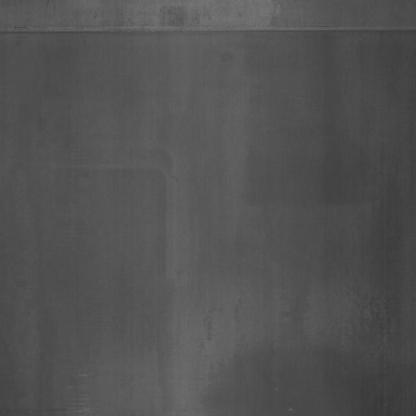welding_line: (2, 18, 416, 41)
